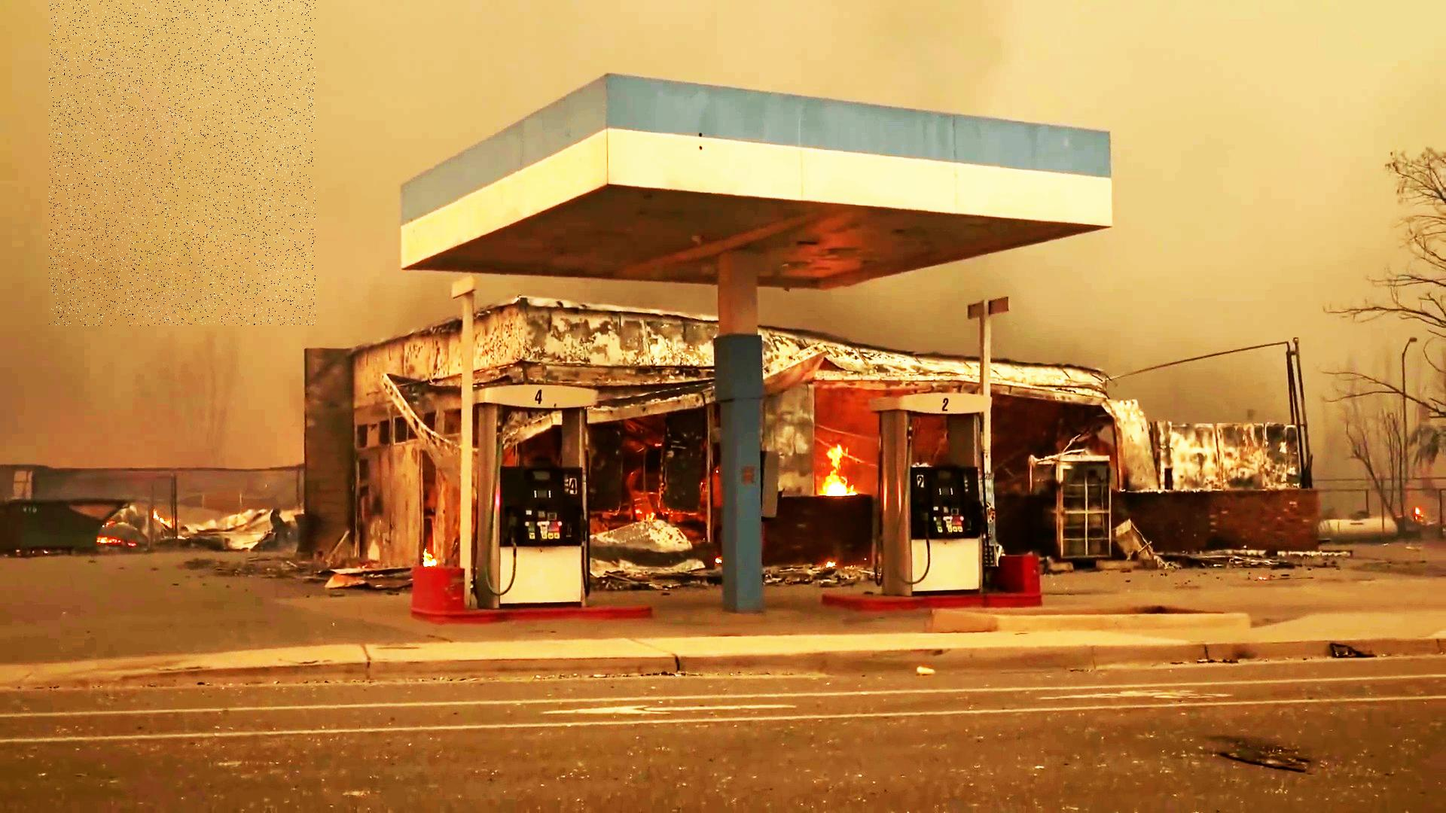smoke: (49, 0, 316, 326)
